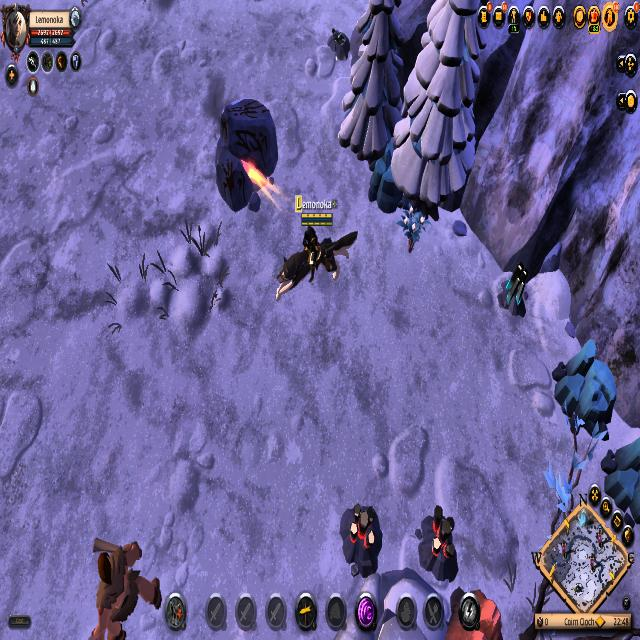fiber tier 4: (400, 202, 428, 255)
ore tier 4: (496, 260, 532, 327)
ore tier 5: (419, 502, 461, 581), (339, 501, 385, 571)
rock tier 4: (552, 339, 617, 439)
